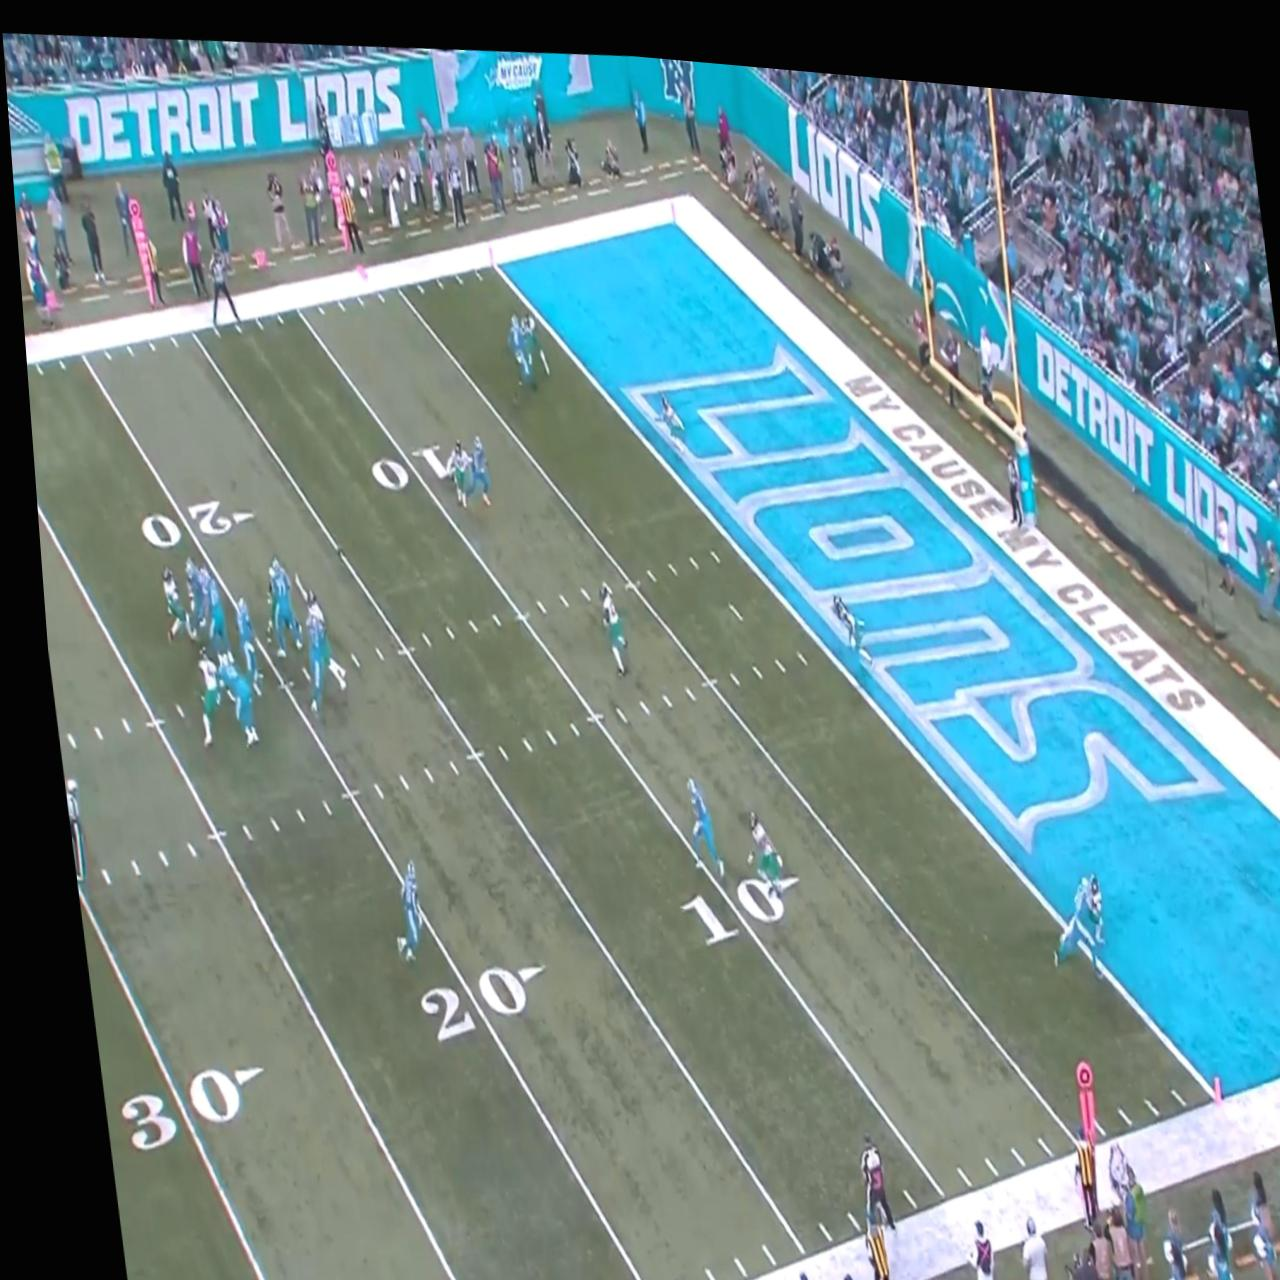10R: (663, 851, 795, 938), (361, 431, 485, 490)
20R: (399, 943, 541, 1046), (129, 488, 254, 557)
30R: (98, 1049, 262, 1159)
